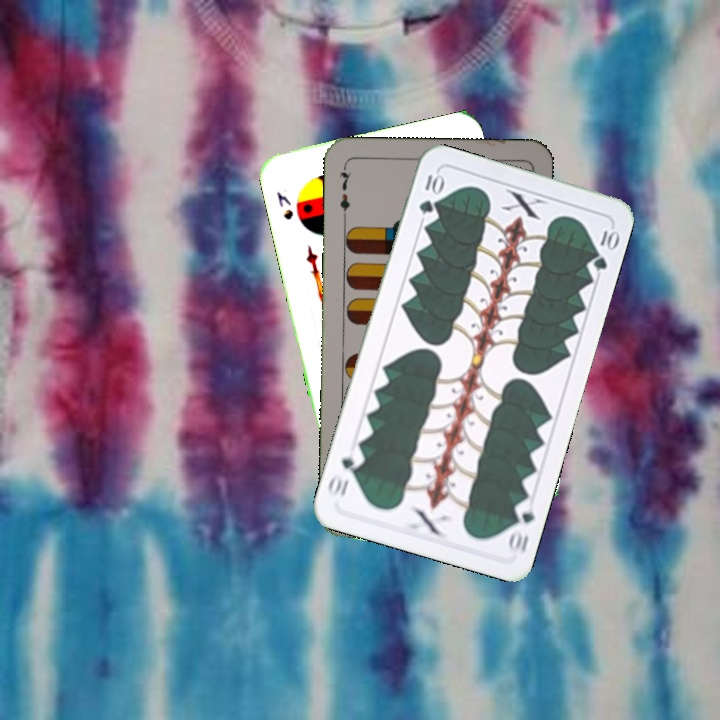E7: (335, 162, 354, 221)
G10: (504, 496, 537, 557), (415, 168, 445, 218)
SK: (273, 188, 296, 223)
